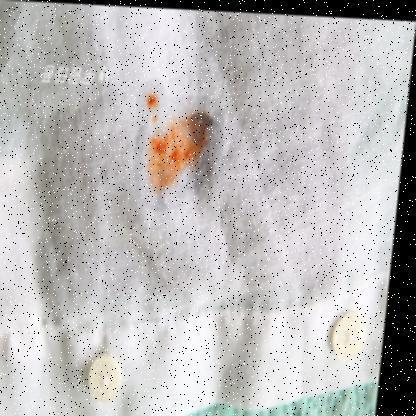kimchi: (147, 112, 213, 186), (156, 139, 201, 163), (141, 92, 160, 123)
